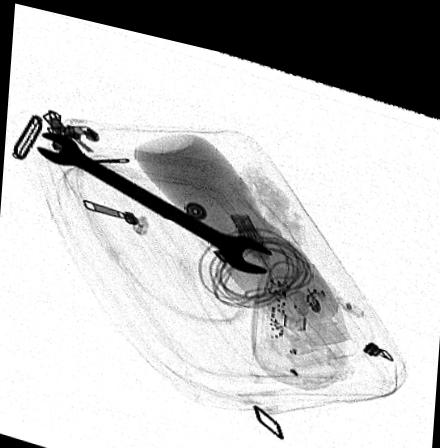Wrench: (32, 129, 277, 264)
